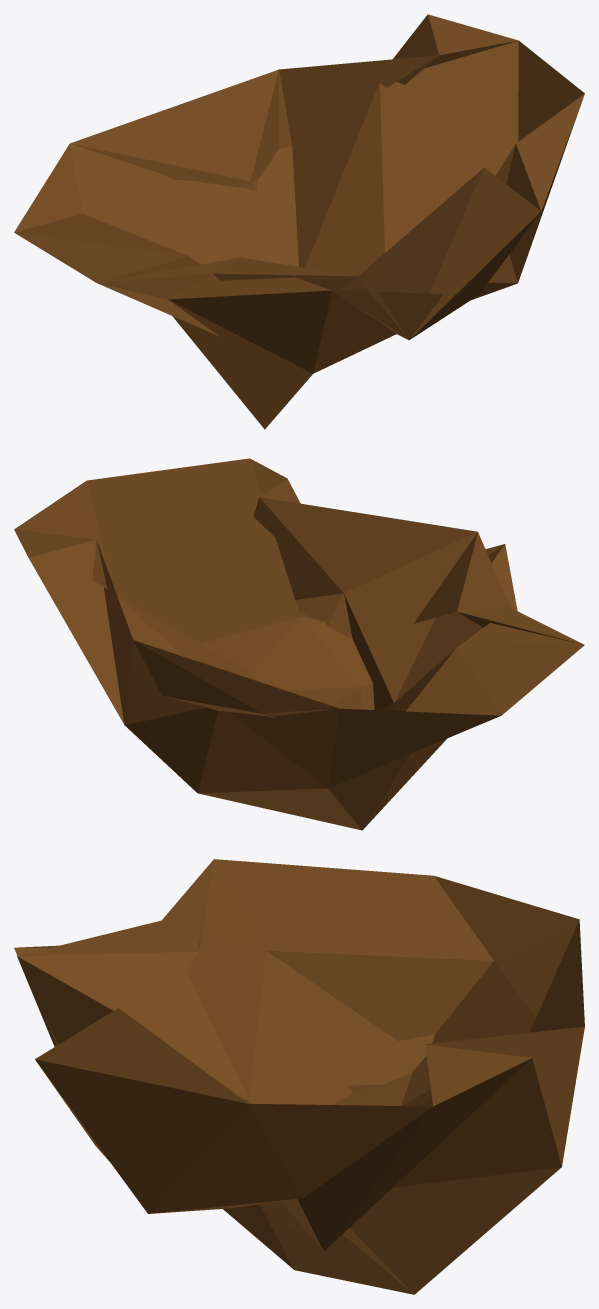
The model's file is lobang 2.fbx.
3 views of the same model, one above another, from view 1: azimuth 30°, elevation 25°; view 2: azimuth 150°, elevation 25°; view 3: azimuth 270°, elevation 25° (orthographic). The views are drawn at different scales.
Parts seen in each view (by area): view 1: Icosphere; view 2: Icosphere; view 3: Icosphere.
Part boxes in pixels (<box>): Icosphere: <box>14,14,584,429</box>; Icosphere: <box>14,458,584,830</box>; Icosphere: <box>14,859,584,1294</box>.
Bounding box in the file's own units: 279 × 153 × 209.
